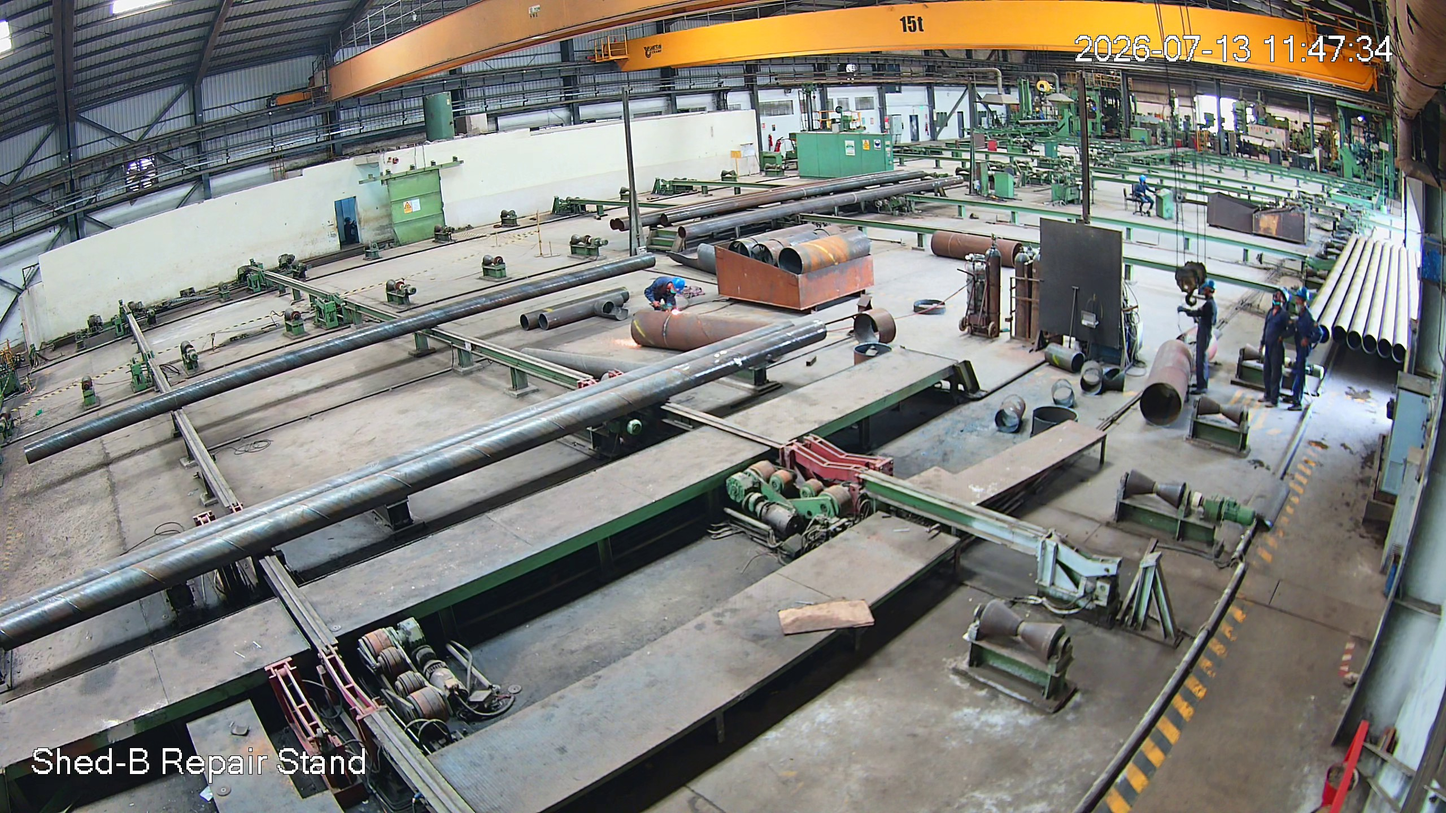Helmet: (1292, 285, 1312, 318), (1272, 285, 1292, 313), (1199, 279, 1219, 305), (669, 275, 687, 294)
Person: (1188, 281, 1224, 401), (1257, 288, 1291, 410), (1290, 286, 1319, 415), (645, 276, 688, 312)
